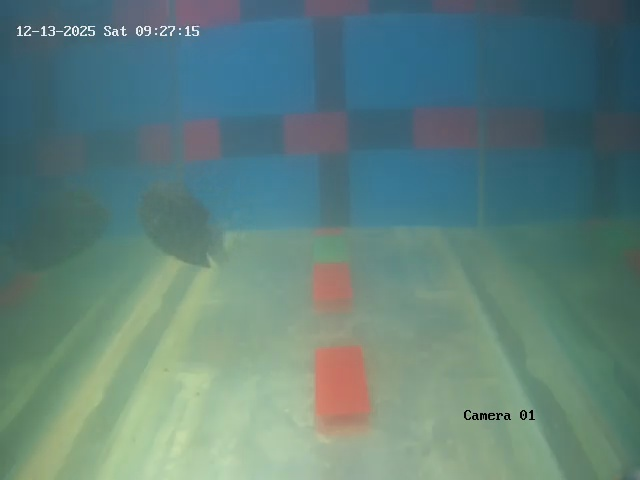fish: (129, 184, 244, 270)
